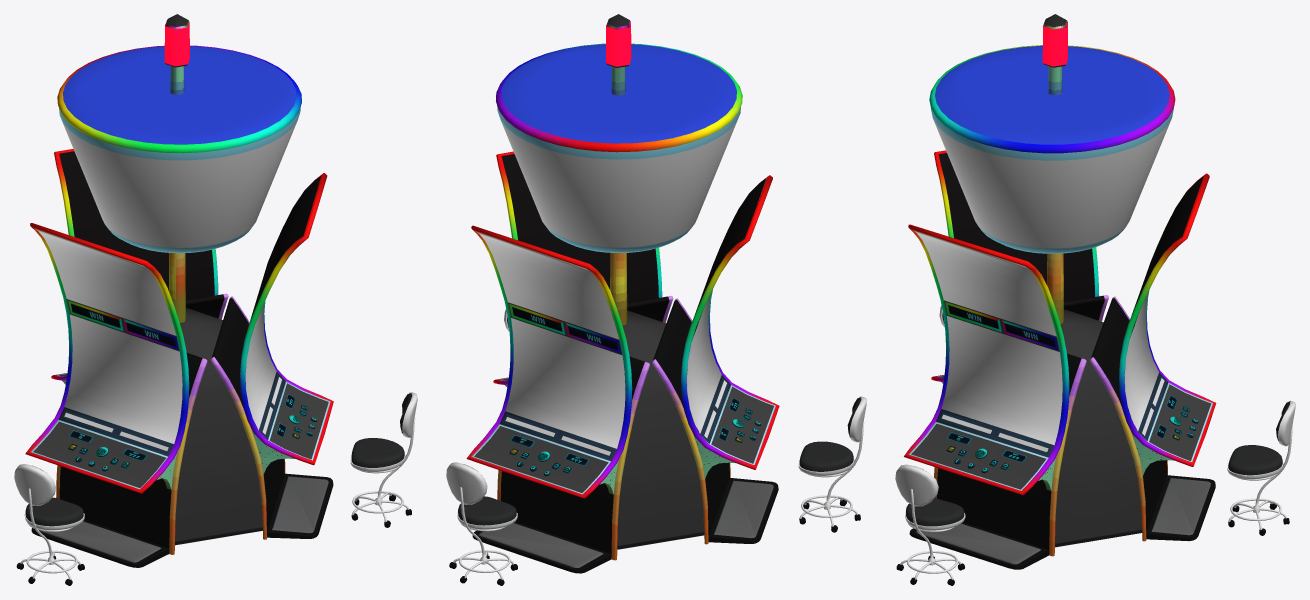
Rendered from SlotAutomatTrheeIsland.fbx.
3 renders of one model, left to right at view 1: azimuth 30°, elevation 25°; view 2: azimuth 150°, elevation 25°; view 3: azimuth 270°, elevation 25°, orthographic.
Visible parts, largest first — view 1: Cone.005, Cylinder.001, SlotMashine1, Cone.003, Cylinder.025, SlotMashine1.002, GameChair.009, GameChair, UVScrollIsland.003, SlotMashine1.001, SlotMashine1.003; view 2: Cone.005, Cylinder.025, Cylinder.001, Cone.003, SlotMashine1, SlotMashine1.003, GameChair.008, GameChair.009, UVScrollIsland.003, SlotMashine1.002, SlotMashine1.001; view 3: Cone.005, SlotMashine1, Cylinder.025, Cone.003, Cylinder.001, SlotMashine1.001, GameChair, GameChair.008, UVScrollIsland.003, SlotMashine1.003, SlotMashine1.002.
Part boxes in pixels (x1,y1,x2,y2): Cone.005: [59, 46, 300, 253]; Cylinder.001: [30, 228, 207, 567]; SlotMashine1: [211, 176, 333, 539]; Cone.003: [164, 14, 262, 545]; Cylinder.025: [56, 151, 228, 384]; SlotMashine1.002: [25, 223, 189, 493]; GameChair.009: [14, 464, 84, 585]; GameChair: [350, 392, 417, 527]; UVScrollIsland.003: [57, 45, 301, 153]; SlotMashine1.001: [240, 173, 333, 465]; SlotMashine1.003: [51, 149, 218, 380]; Cone.005: [497, 44, 740, 252]; Cylinder.025: [471, 231, 649, 573]; Cylinder.001: [652, 177, 778, 544]; Cone.003: [606, 14, 704, 549]; SlotMashine1: [499, 154, 673, 387]; SlotMashine1.003: [466, 225, 632, 498]; GameChair.008: [446, 462, 517, 585]; GameChair.009: [798, 396, 866, 532]; UVScrollIsland.003: [496, 43, 742, 152]; SlotMashine1.002: [681, 175, 779, 469]; SlotMashine1.001: [493, 151, 662, 385]; Cone.005: [930, 45, 1173, 253]; SlotMashine1: [908, 230, 1086, 569]; Cylinder.025: [1090, 176, 1215, 541]; Cone.003: [1042, 14, 1142, 547]; Cylinder.001: [937, 153, 1108, 383]; SlotMashine1.001: [904, 224, 1069, 495]; GameChair: [895, 464, 965, 585]; GameChair.008: [1227, 400, 1295, 535]; UVScrollIsland.003: [929, 45, 1175, 153]; SlotMashine1.003: [1119, 173, 1216, 466]; SlotMashine1.002: [931, 150, 1099, 381].
Size of the model in its own units: 382 by 478 by 353.
Materials: 12 (6 with a texture image).
